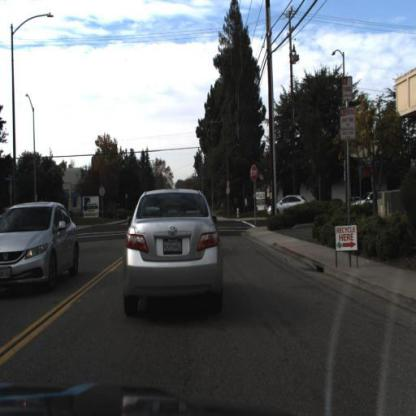car: (124, 185, 222, 322), (1, 202, 82, 294), (267, 192, 308, 222)
